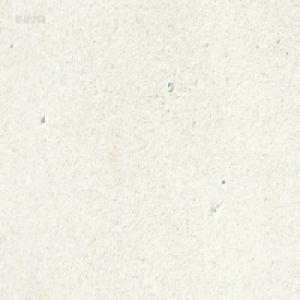Washer: (167, 81, 173, 92)
